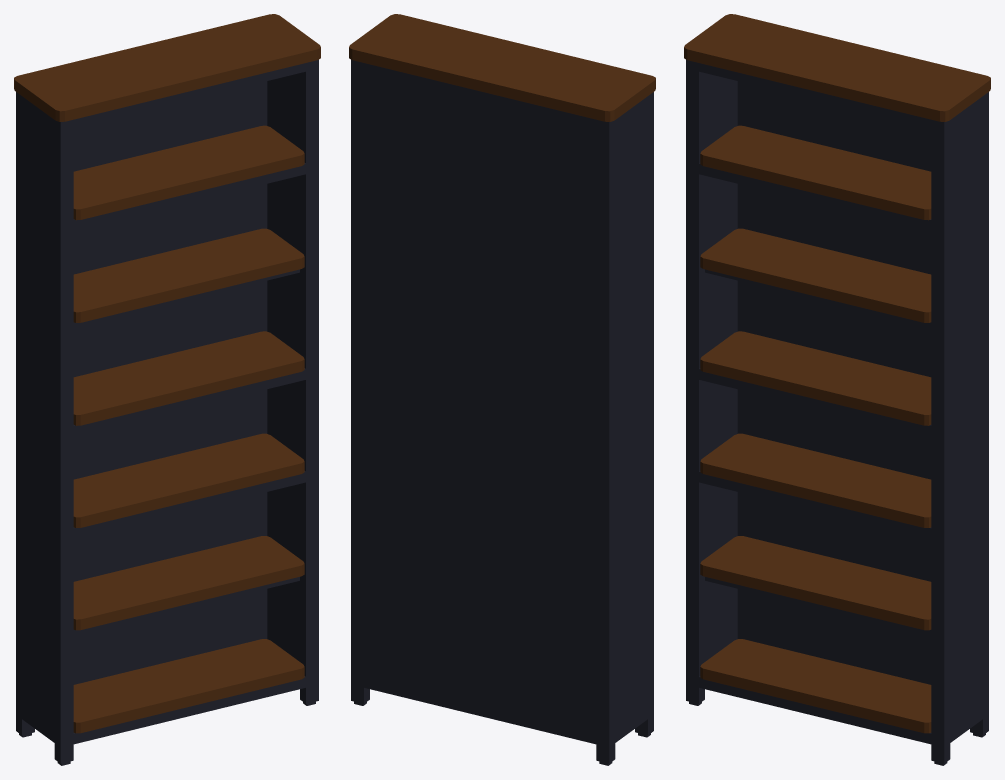
The model's file is shelfcabinet_enclosed2.glb.
3 renders of one model, left to right at view 1: azimuth 30°, elevation 25°; view 2: azimuth 150°, elevation 25°; view 3: azimuth 330°, elevation 25°, orthographic.
Visible parts, largest first — view 1: BigFrame.003; view 2: BigFrame.003; view 3: BigFrame.003.
Boxes of the visible parts, x1=… form: BigFrame.003: x1=14, y1=14, x2=320, y2=765; BigFrame.003: x1=349, y1=14, x2=655, y2=765; BigFrame.003: x1=684, y1=14, x2=990, y2=765.
Size of the model in its own units: 0.8221 by 1.95 by 0.2576.
